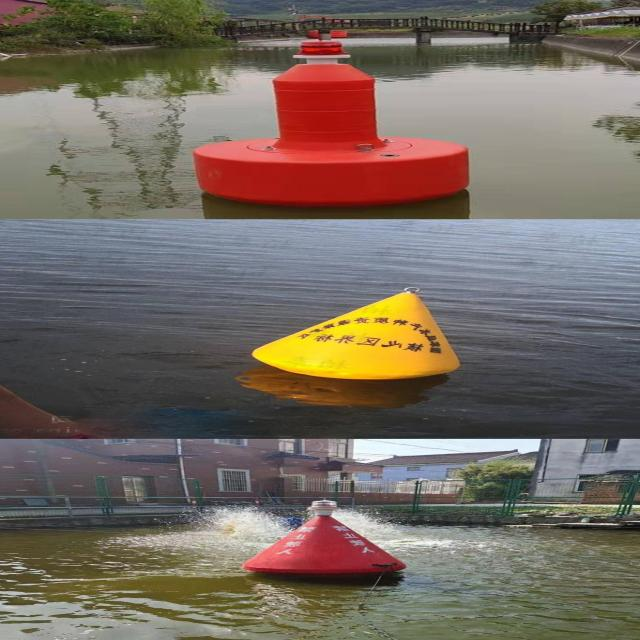buoy: (170, 20, 502, 204), (225, 289, 483, 382), (232, 498, 408, 580)
